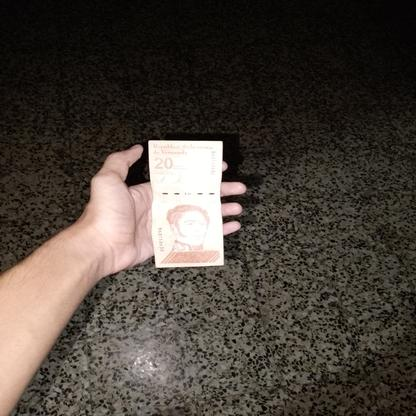twenty-front-vef: (148, 140, 224, 268)
